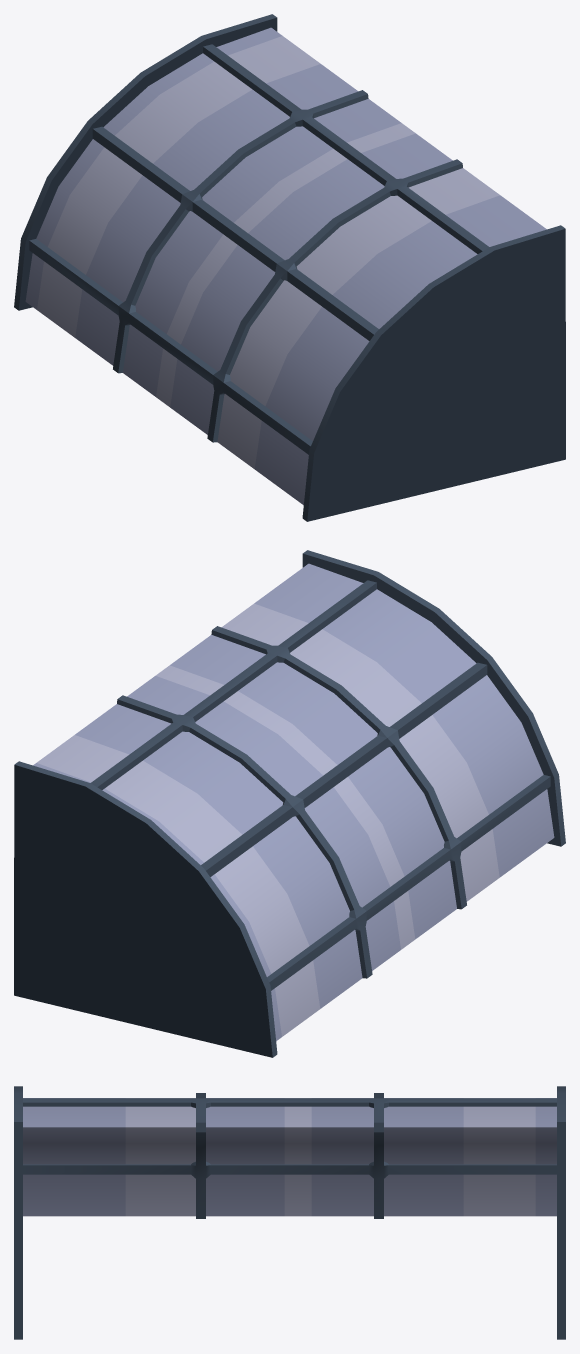
Rendered from Dome.fbx.
3 views of the same model, one above another, from view 1: azimuth 30°, elevation 25°; view 2: azimuth 150°, elevation 25°; view 3: azimuth 270°, elevation 25° (orthographic). The views are drawn at different scales.
Visible parts, largest first — view 1: Plane.470; view 2: Plane.470; view 3: Plane.470.
Part boxes in pixels (left/top/right/bottom): Plane.470: left=14, top=14, right=565, bottom=521; Plane.470: left=14, top=550, right=565, bottom=1057; Plane.470: left=14, top=1086, right=565, bottom=1339.
Bounding box in the file's own units: 632 × 539 × 1240.
